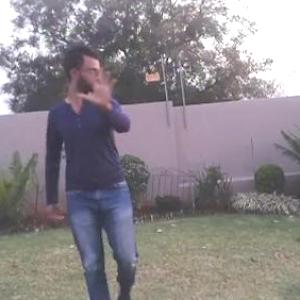follow_hand: (78, 61, 119, 109)
